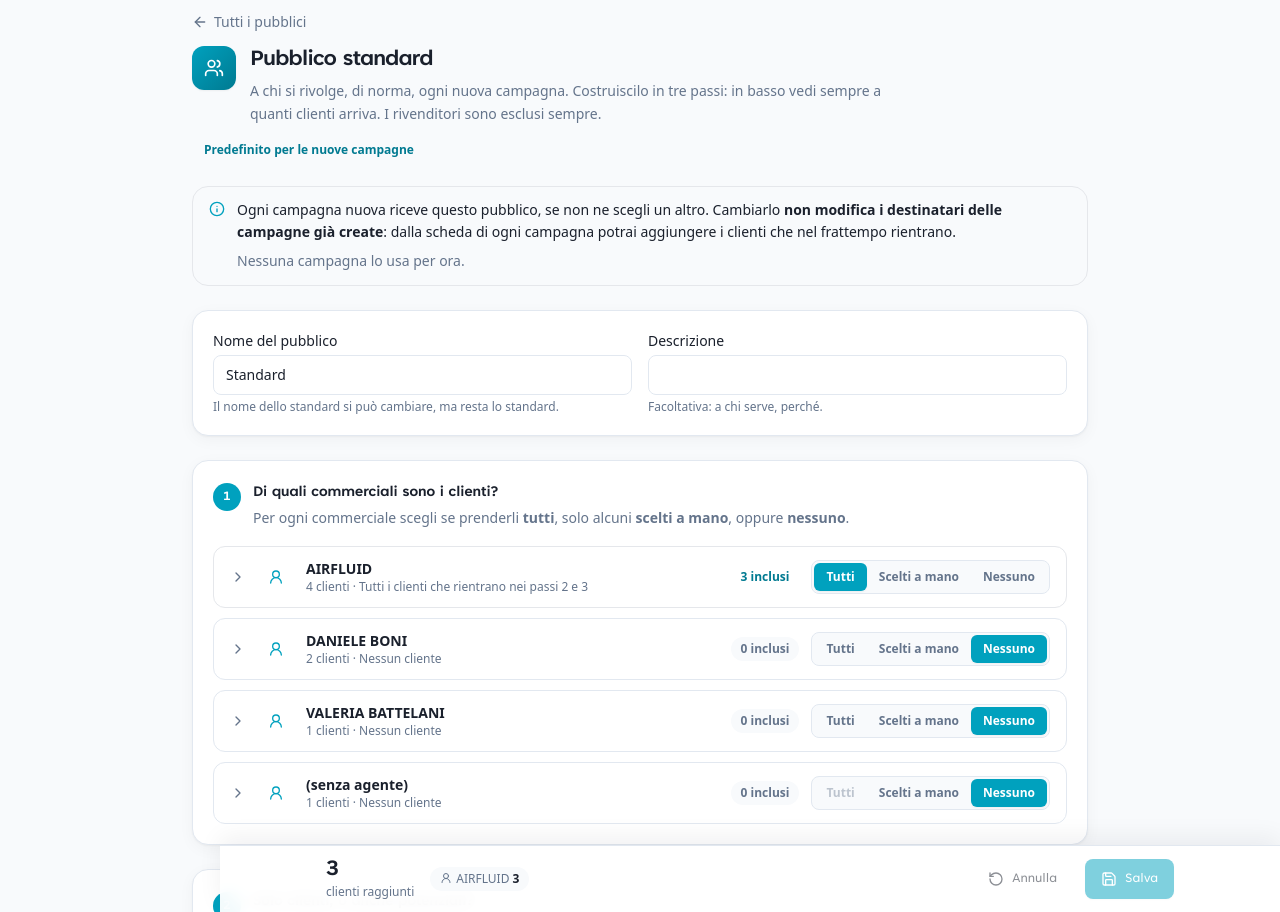
Test case: pubblico standard: i commercialisti in accordion › «Scelti a mano» apre l'elenco dei clienti di quel commerciale, con ricerca e selezione dei visibili
Click the 2nd radio button labelled "Scelti a mano" at (919, 648), box [867,634,971,662]
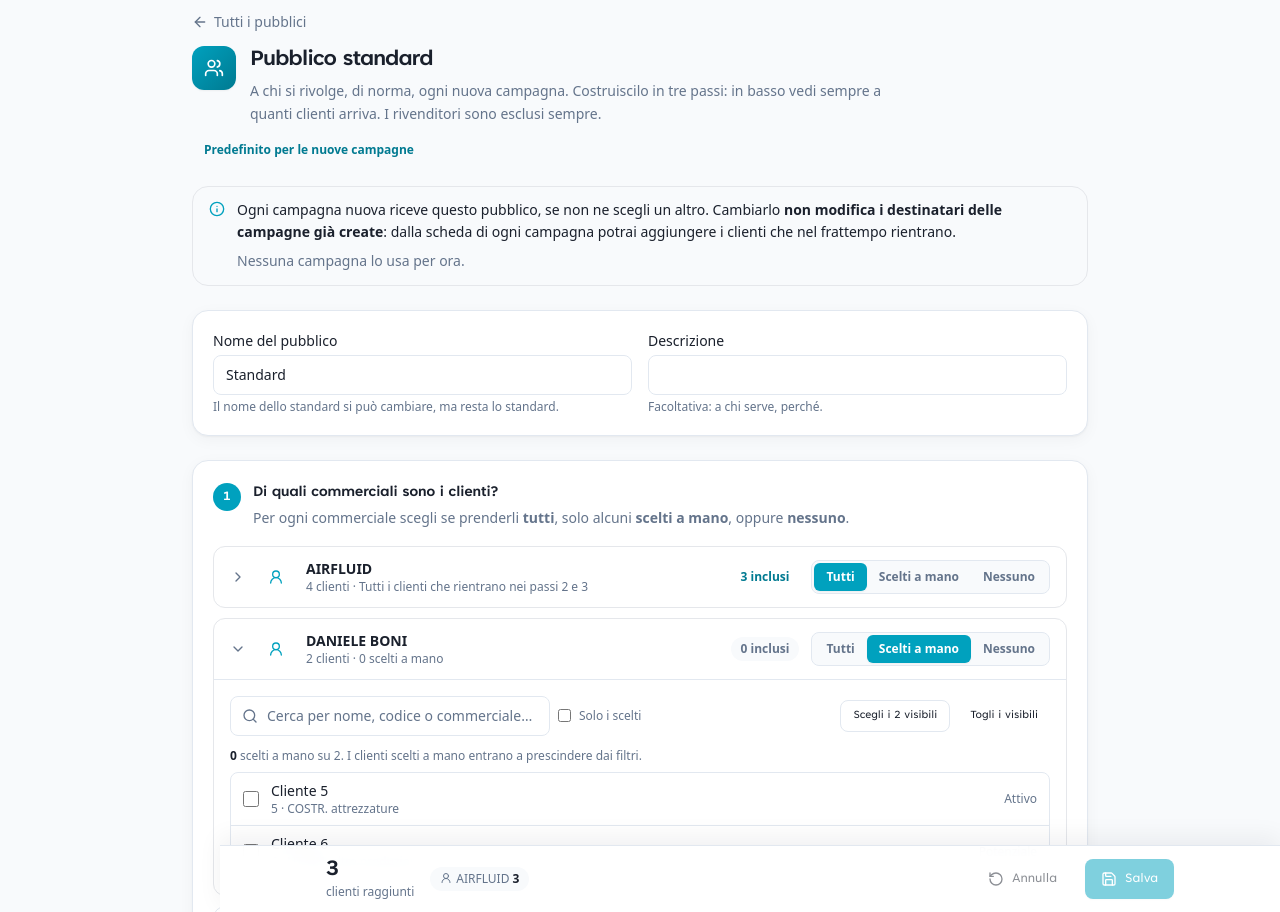
Check: the text "Cliente 5" is shown, box [271,780,328,800]
Check: the text "Cliente 6" is shown, box [271,834,328,852]
Type "UT.FIN." into the field named "Cerca fra i clienti di DANIELE BONI" at (390, 716), box [230,696,550,736]
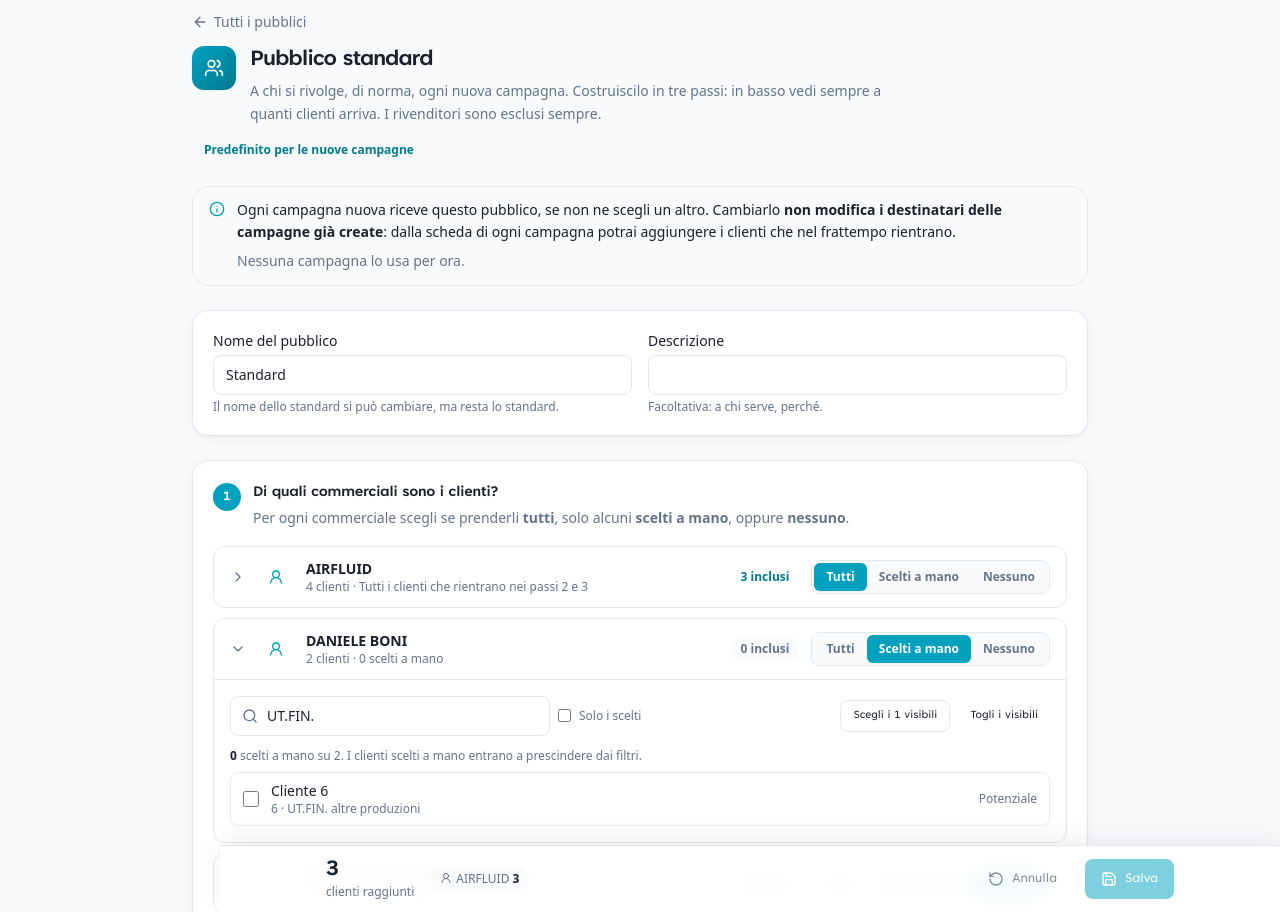
Check: the text "Cliente 5" is gone
Click the button "Scegli i 1 visibili" at (895, 716), box [840,700,950,732]
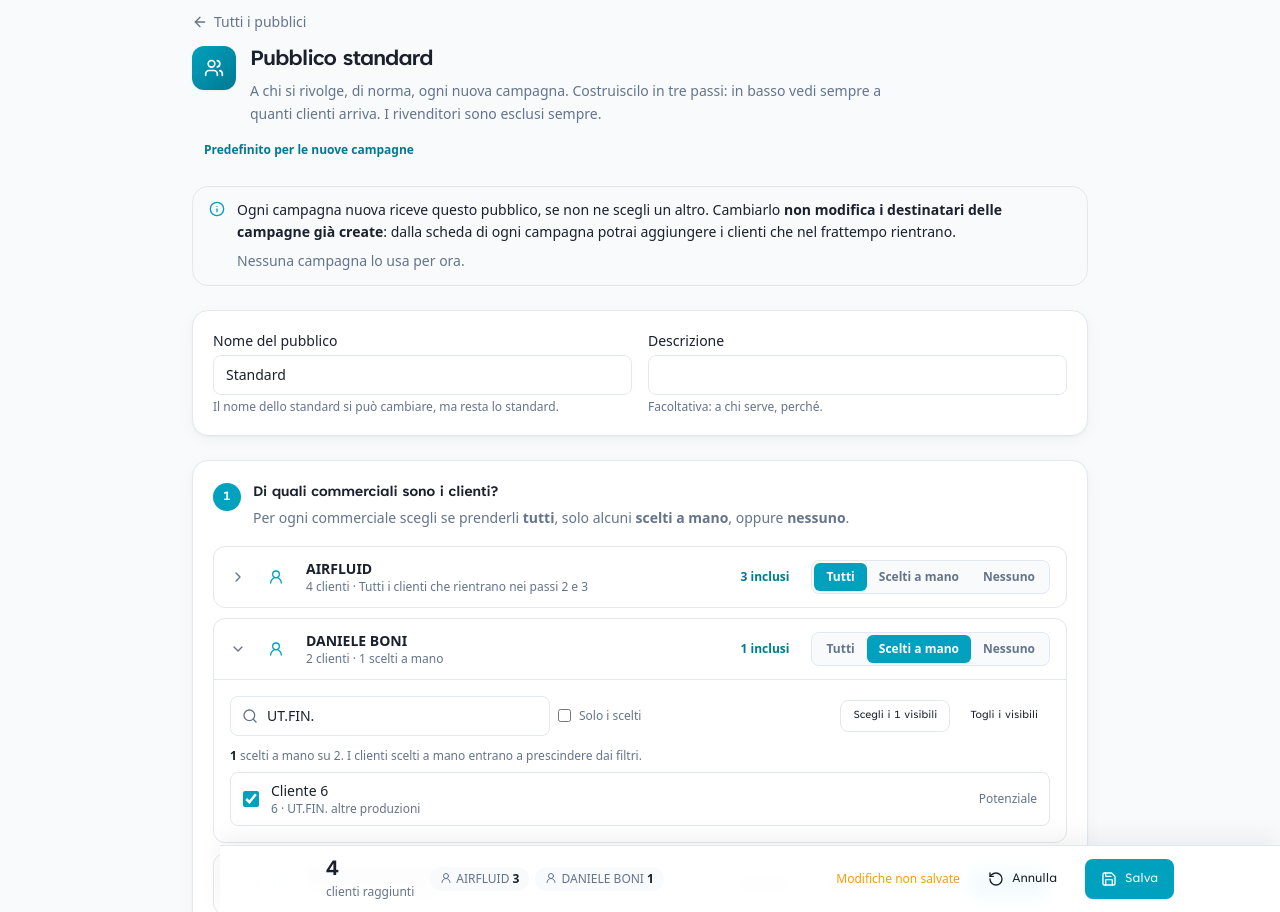
Check: the text "4" is shown, box [326,859,339,881]
